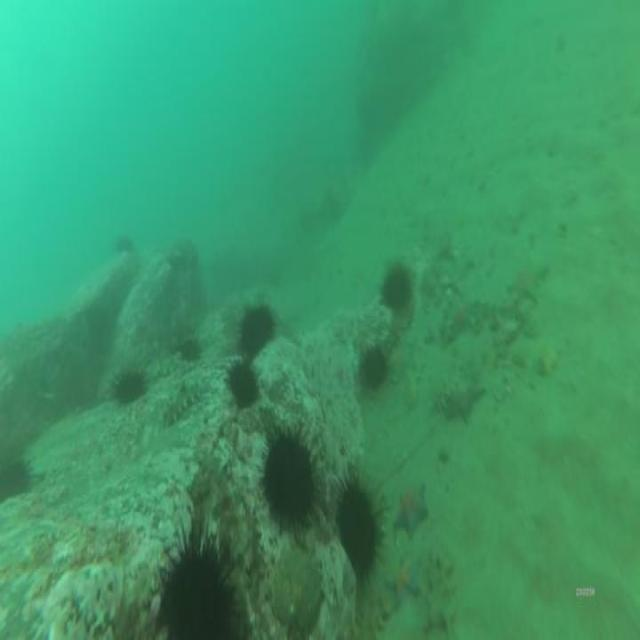echinus: (159, 551, 234, 640), (262, 435, 314, 526), (338, 480, 378, 570), (242, 305, 274, 359), (228, 362, 258, 408), (382, 267, 413, 311), (1, 465, 29, 504), (359, 348, 385, 387), (114, 373, 144, 401), (179, 336, 201, 362)
holothurian: (160, 375, 211, 425)
starfish: (445, 374, 483, 424), (387, 554, 421, 604), (394, 485, 428, 534), (508, 262, 546, 304), (444, 292, 476, 336)
